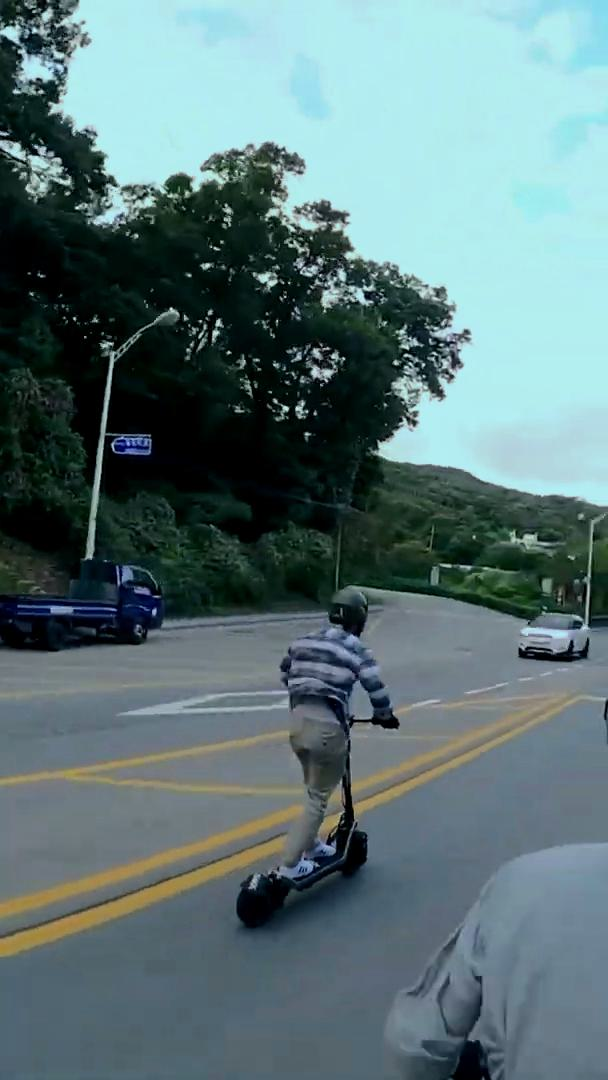helmet: (233, 584, 401, 927)
